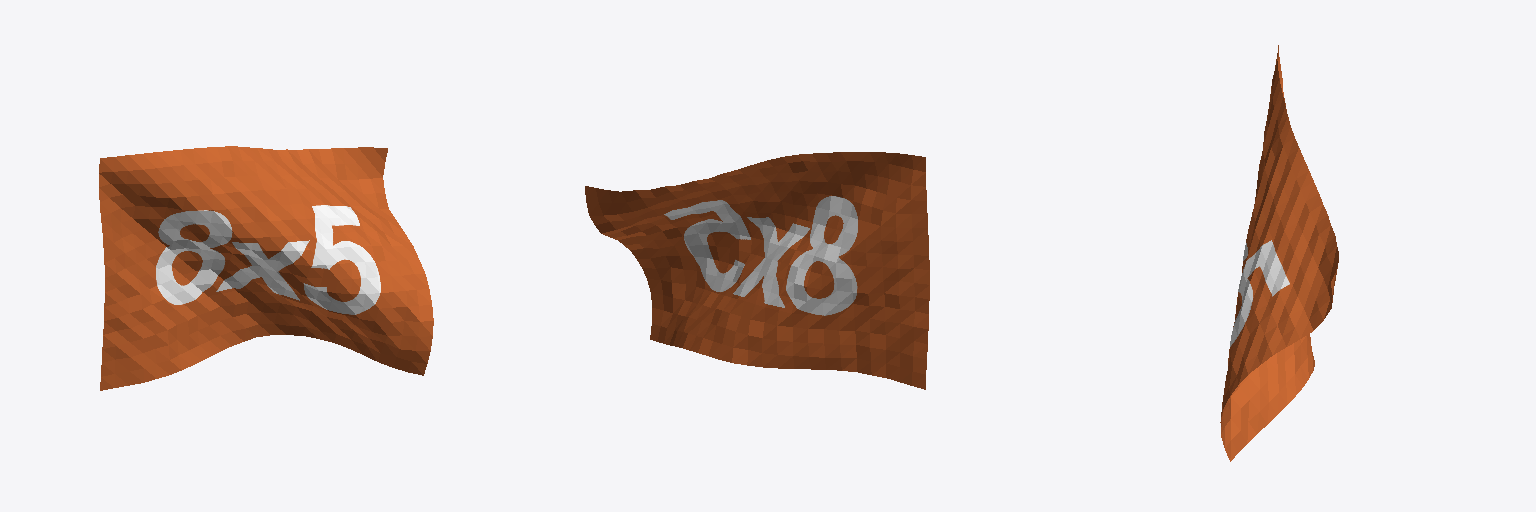
3 views of the same model, side by side, from view 1: azimuth 30°, elevation 25°; view 2: azimuth 150°, elevation 25°; view 3: azimuth 270°, elevation 25° (orthographic).
Parts seen in each view (by area): view 1: mesh_0; view 2: mesh_0; view 3: mesh_0.
Boxes of the visible parts, <box> form: mesh_0: <box>99,146,433,390</box>; mesh_0: <box>585,152,929,389</box>; mesh_0: <box>1220,45,1338,461</box>.
Size of the model in its own units: 2.84 by 2.35 by 0.9267.
Materials: 1 (1 with a texture image).